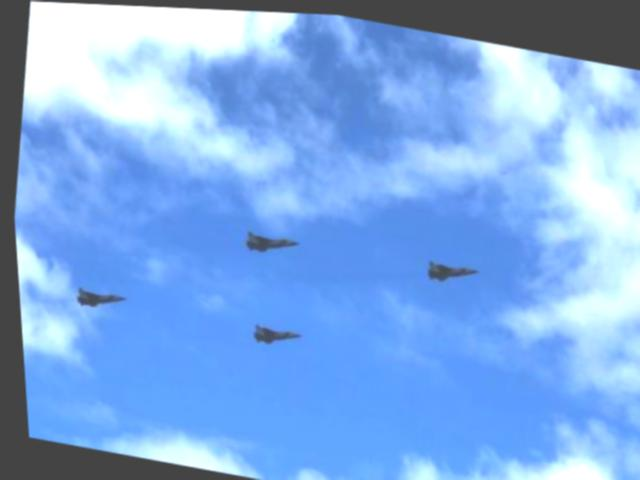flying wing: (419, 241, 489, 303), (239, 308, 307, 361), (63, 269, 126, 323), (230, 216, 296, 267)
